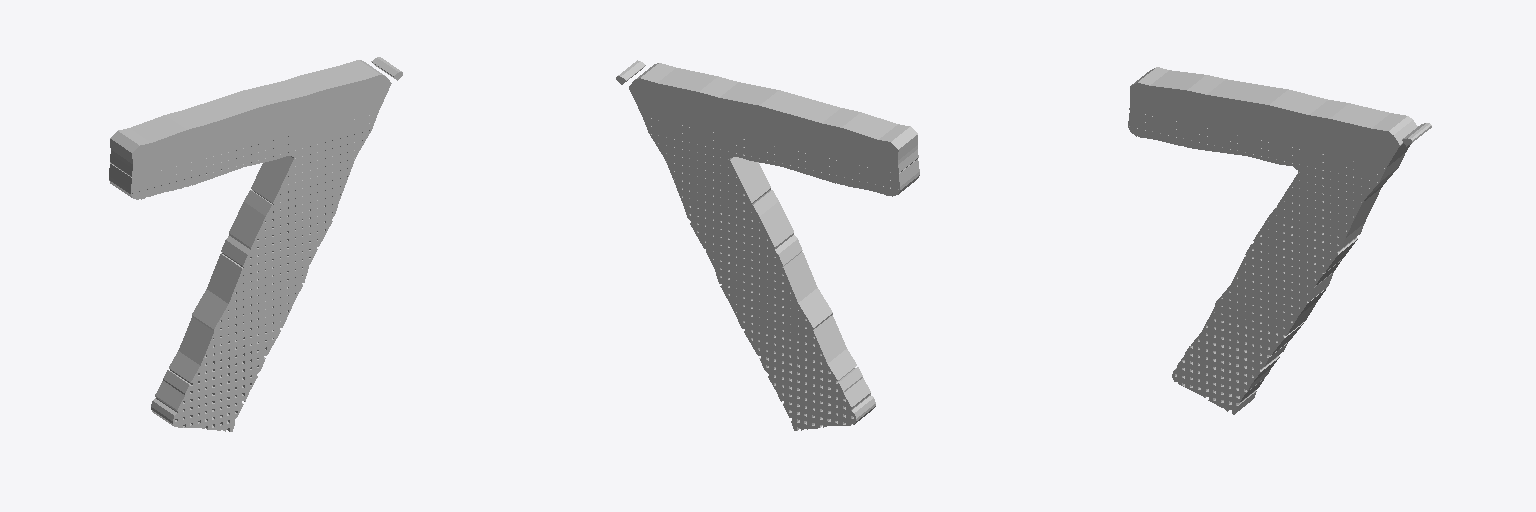
The model's file is 7_naranja.obj.
3 views of the same model, side by side, from view 1: azimuth 30°, elevation 25°; view 2: azimuth 150°, elevation 25°; view 3: azimuth 330°, elevation 25° (orthographic).
Visible parts, largest first — view 1: Mesh1 G_7_1 Model; view 2: Mesh1 G_7_1 Model; view 3: Mesh1 G_7_1 Model.
Boxes of the visible parts, box(x1,y1,x2,y2) form: Mesh1 G_7_1 Model: box(109, 60, 391, 431); Mesh1 G_7_1 Model: box(629, 63, 919, 430); Mesh1 G_7_1 Model: box(1128, 67, 1417, 414).
Bounding box in the file's own units: 77.15 × 83.82 × 12.69.